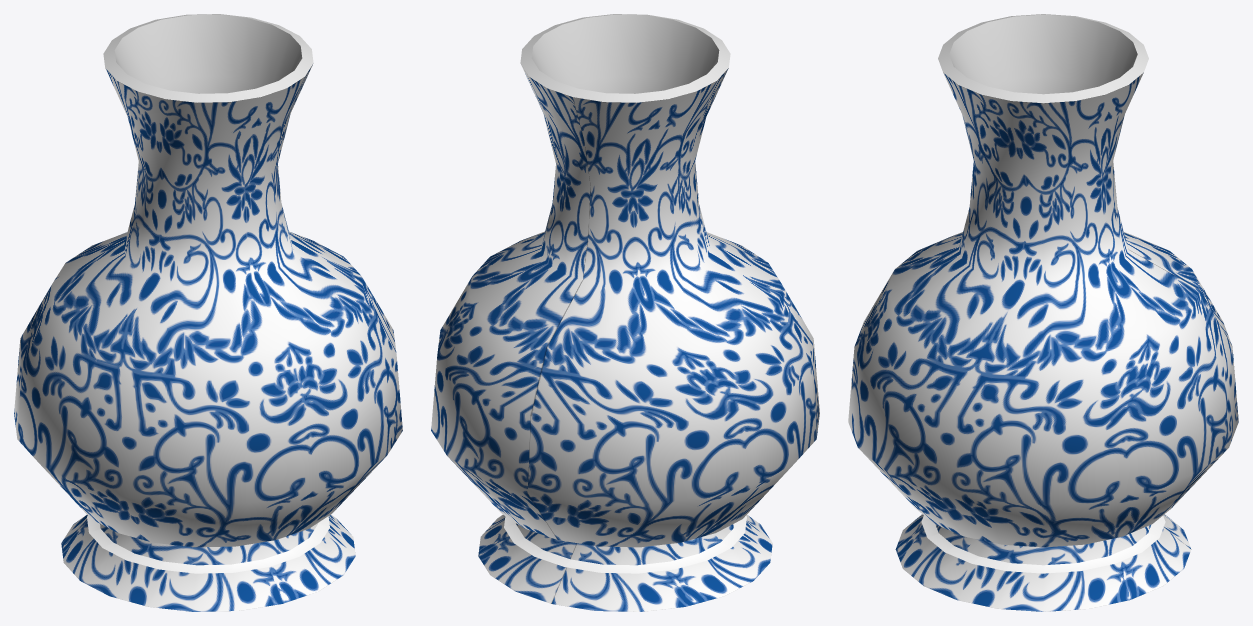
3 renders of one model, left to right at view 1: azimuth 30°, elevation 25°; view 2: azimuth 150°, elevation 25°; view 3: azimuth 270°, elevation 25°, orthographic.
Visible parts, largest first — view 1: pCylinder2; view 2: pCylinder2; view 3: pCylinder2.
Boxes of the visible parts, x1=… form: pCylinder2: x1=14, y1=14, x2=402, y2=611; pCylinder2: x1=431, y1=14, x2=819, y2=611; pCylinder2: x1=848, y1=14, x2=1238, y2=611.
Bounding box in the file's own units: 64.4 × 90.06 × 64.4.
